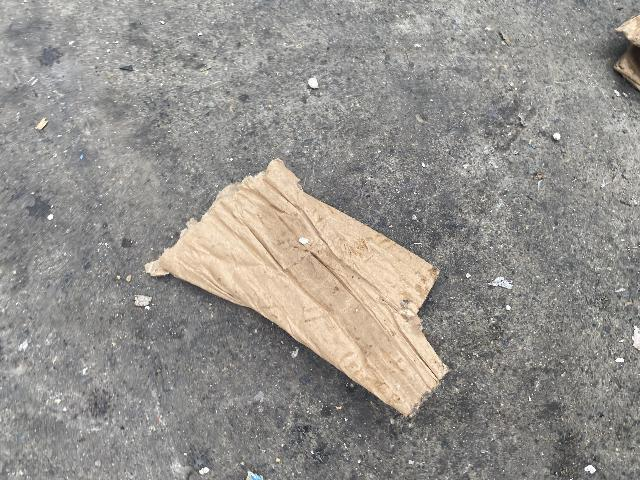Kagit: (140, 157, 495, 425), (600, 0, 640, 105)
